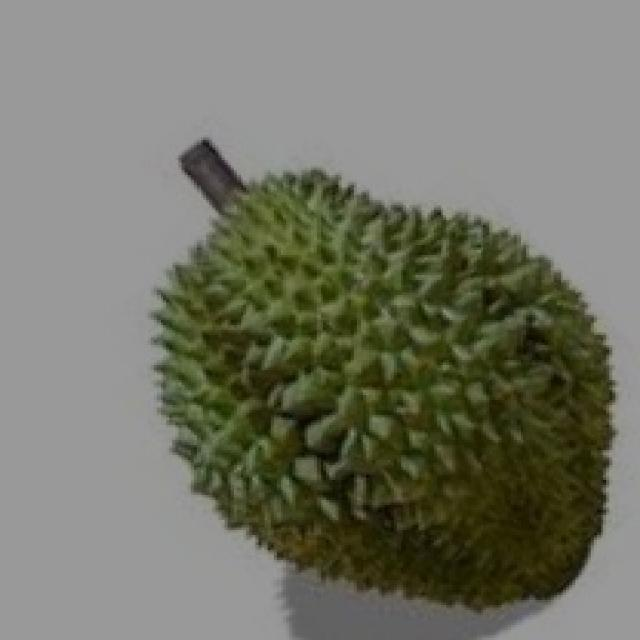fruit: (258, 205, 640, 635)
